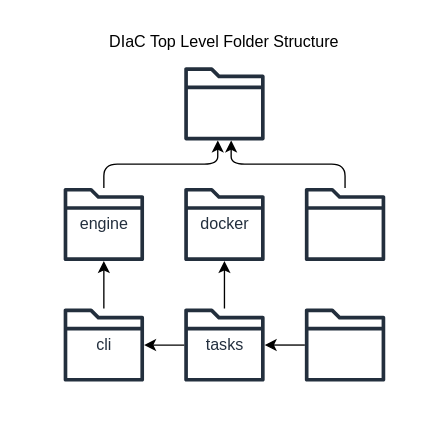
Image size: 448x448. Some labels were removed from this diagram. Here are the shapes that lost their labels. From the top down, the box of each, then its label:
(184, 63, 264, 143): core
(304, 184, 385, 264): examples
(304, 304, 385, 385): .github
